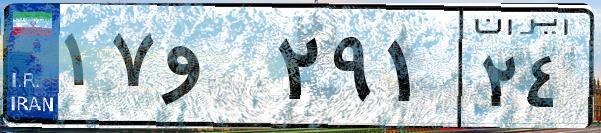1: (385, 28, 445, 110), (57, 26, 110, 100)
2: (270, 28, 330, 110), (475, 38, 525, 113)
4: (525, 38, 570, 115)
7: (110, 28, 158, 98)
9: (330, 28, 385, 110)
و: (158, 20, 270, 120)
